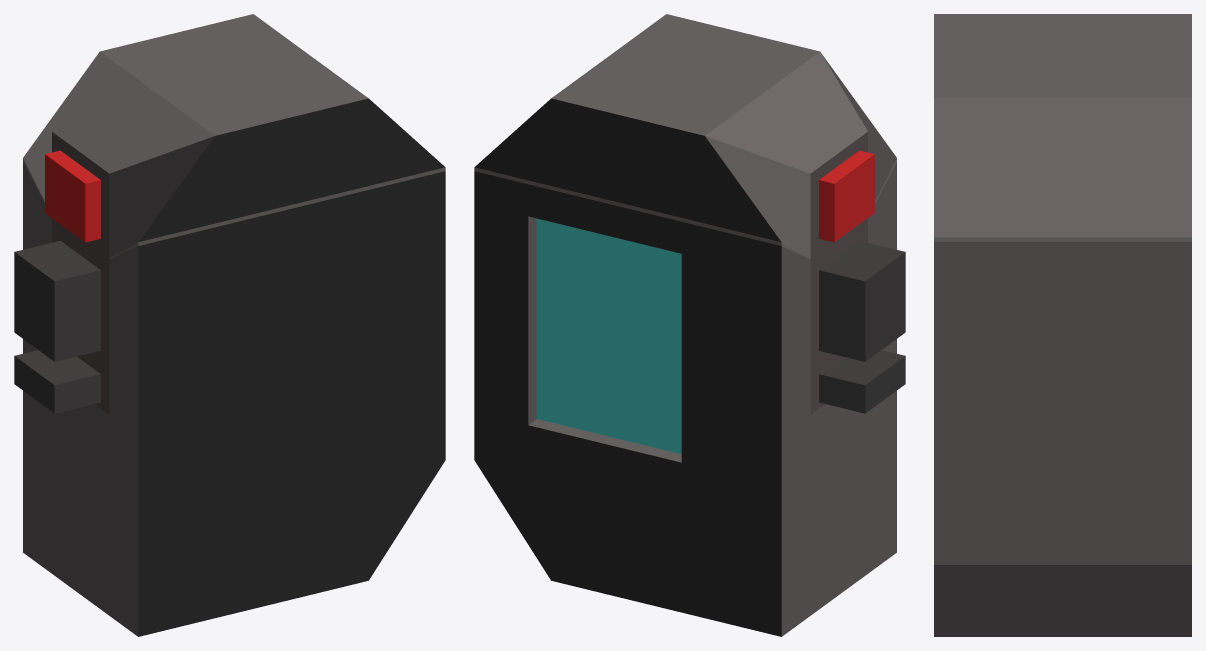
Rendered from HandheldTapeRecorderButtonHeld.gltf.
The picture shows the model from 3 angles, left to right: view 1: azimuth 30°, elevation 25°; view 2: azimuth 150°, elevation 25°; view 3: azimuth 270°, elevation 25°; orthographic projection. The views are drawn at different scales.
Visible parts, largest first — view 1: recorder; view 2: recorder; view 3: recorder.
Boxes of the visible parts, x1,y1,x2,y2 form: recorder: (14,14,445,636); recorder: (474,14,905,636); recorder: (934,14,1191,636).
Bounding box in the file's own units: 0.2875 × 0.375 × 0.1625.
1 material, 1 textured.
